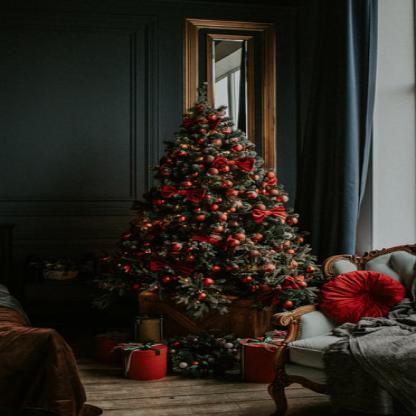present: (100, 325, 174, 377), (232, 341, 294, 376)
x_mas tree: (118, 88, 332, 307)
